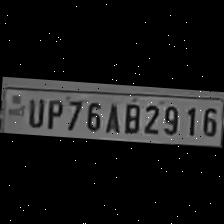1: (180, 103, 199, 136)
2: (140, 100, 159, 135)
6: (81, 98, 104, 132), (198, 103, 219, 137)
7: (62, 98, 82, 132)
9: (157, 101, 180, 135)
A: (100, 99, 120, 134)
B: (119, 100, 140, 134)
P: (44, 96, 64, 130)
U: (22, 95, 46, 128)
